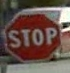stop: (3, 9, 61, 62)
